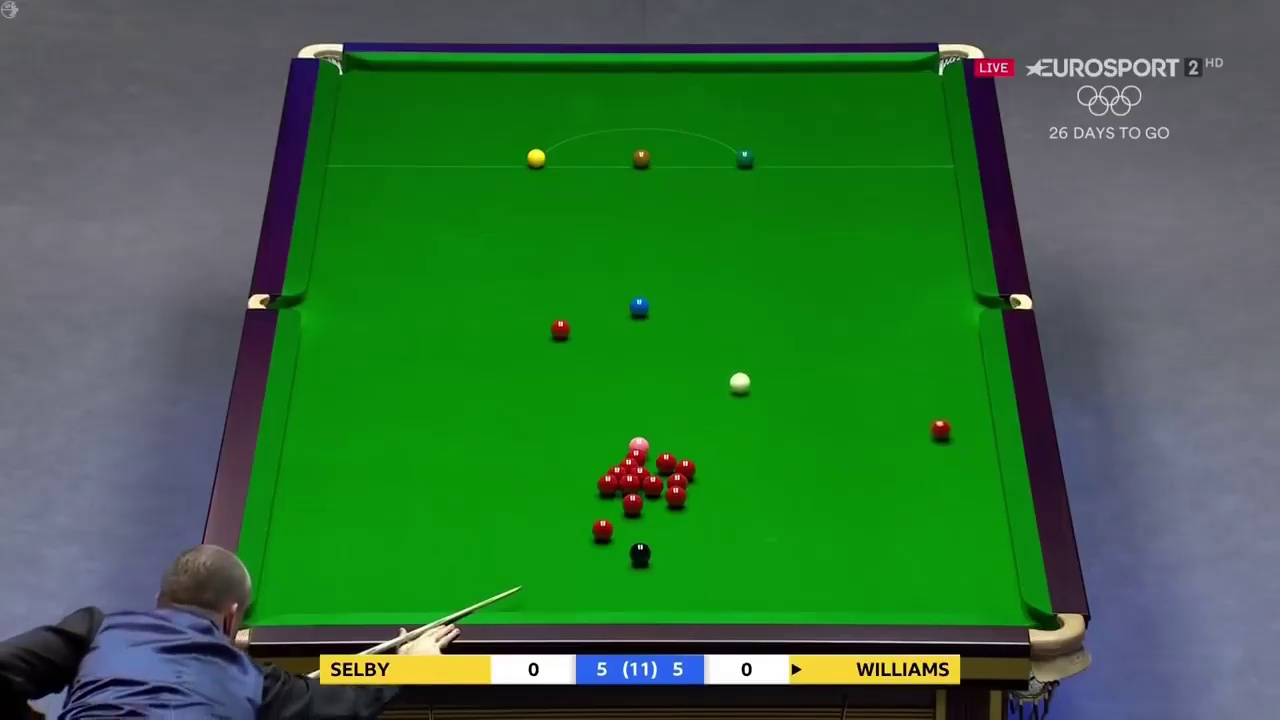ball: (726, 369, 753, 395), (589, 516, 614, 539), (628, 296, 651, 320), (627, 542, 651, 565), (662, 487, 687, 507), (550, 316, 573, 337), (524, 148, 547, 168), (620, 493, 640, 516), (735, 147, 755, 169), (629, 147, 649, 167)
